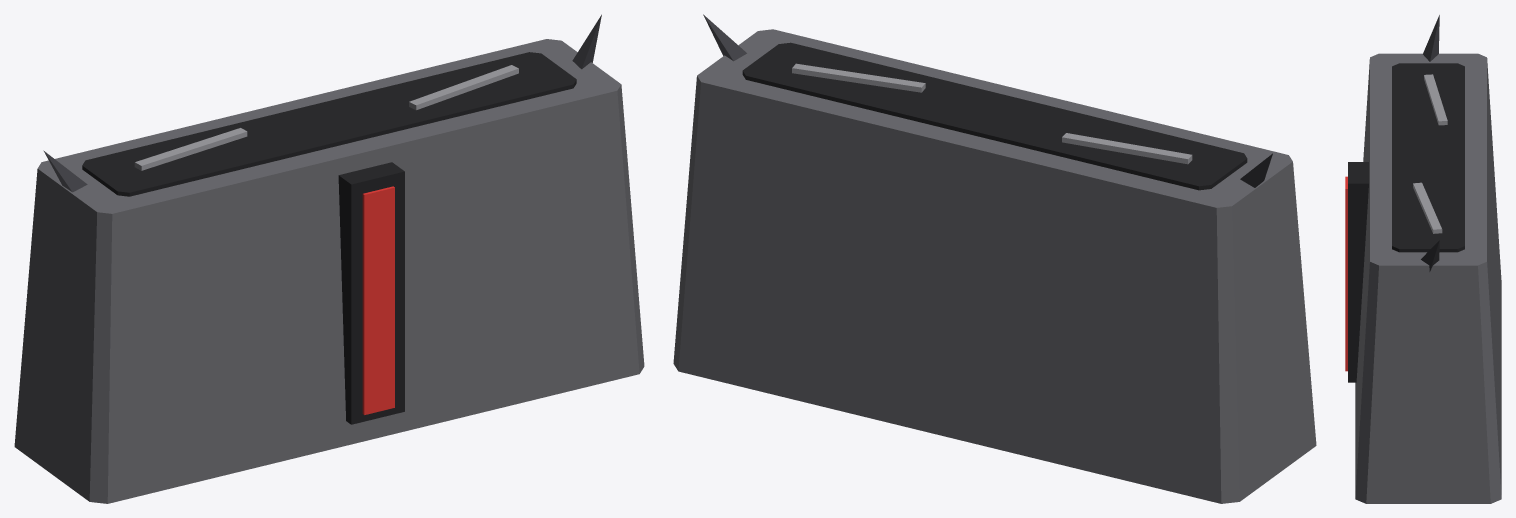
The model's file is void_monolith_top_d.obj.
3 renders of one model, left to right at view 1: azimuth 30°, elevation 25°; view 2: azimuth 150°, elevation 25°; view 3: azimuth 270°, elevation 25°, orthographic. The views are drawn at different scales.
Parts seen in each view (by area): view 1: void_monolith_top_d_0, void_monolith_top_d_1, void_monolith_top_d_4, void_monolith_top_d_5, void_monolith_top_d_2, void_monolith_top_d_3; view 2: void_monolith_top_d_0, void_monolith_top_d_1, void_monolith_top_d_3, void_monolith_top_d_2; view 3: void_monolith_top_d_0, void_monolith_top_d_1, void_monolith_top_d_4, void_monolith_top_d_3, void_monolith_top_d_5, void_monolith_top_d_2, void_monolith_top_d_6, void_monolith_top_d_7.
Boxes of the visible parts, x1=… form: void_monolith_top_d_0: x1=14, y1=39, x2=644, y2=503; void_monolith_top_d_1: x1=82, y1=52, x2=576, y2=196; void_monolith_top_d_4: x1=338, y1=162, x2=404, y2=424; void_monolith_top_d_5: x1=362, y1=186, x2=394, y2=414; void_monolith_top_d_2: x1=134, y1=128, x2=247, y2=170; void_monolith_top_d_3: x1=409, y1=65, x2=518, y2=110; void_monolith_top_d_0: x1=673, y1=29, x2=1316, y2=503; void_monolith_top_d_1: x1=742, y1=42, x2=1247, y2=190; void_monolith_top_d_3: x1=792, y1=63, x2=925, y2=92; void_monolith_top_d_2: x1=1062, y1=133, x2=1192, y2=164; void_monolith_top_d_0: x1=1355, y1=53, x2=1501, y2=503; void_monolith_top_d_1: x1=1392, y1=63, x2=1464, y2=252; void_monolith_top_d_4: x1=1348, y1=162, x2=1368, y2=382; void_monolith_top_d_3: x1=1413, y1=182, x2=1442, y2=233; void_monolith_top_d_5: x1=1345, y1=176, x2=1347, y2=371; void_monolith_top_d_2: x1=1424, y1=74, x2=1447, y2=125; void_monolith_top_d_6: x1=1423, y1=15, x2=1439, y2=61; void_monolith_top_d_7: x1=1421, y1=240, x2=1439, y2=271.
Bounding box in the file's own units: 2.92 × 1.6 × 0.855.
